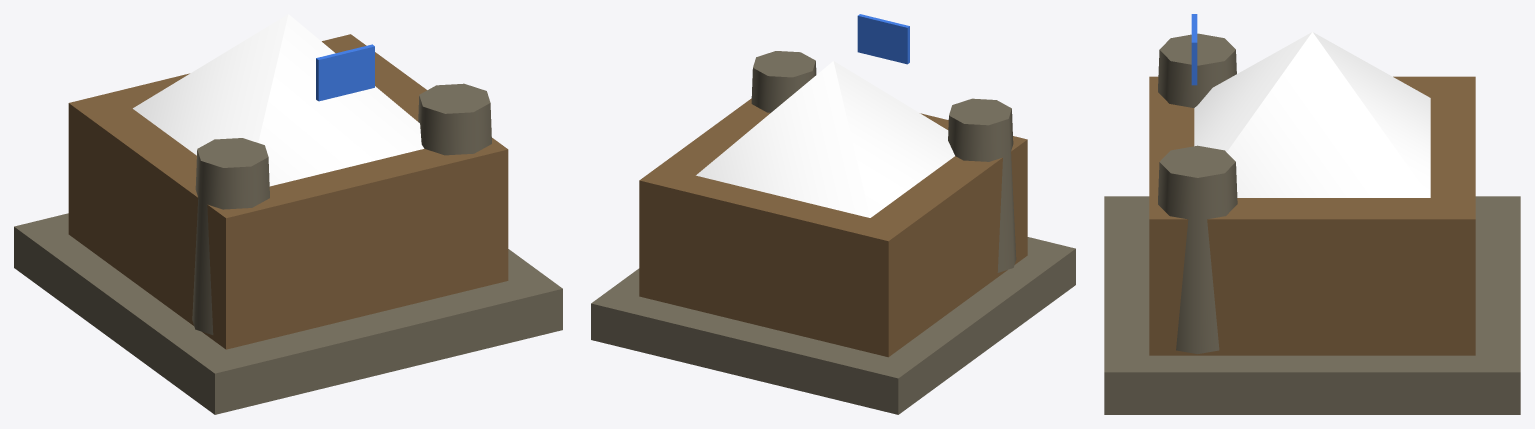
File: keep.glb
3 renders of one model, left to right at view 1: azimuth 30°, elevation 25°; view 2: azimuth 150°, elevation 25°; view 3: azimuth 270°, elevation 25°, orthographic. The views are drawn at different scales.
Parts seen in each view (by area): view 1: keep-main-keep, keep-stone-footprint, keep-heavy-roof, keep-front-tower-left, keep-front-tower-right, keep-team-standard; view 2: keep-main-keep, keep-stone-footprint, keep-heavy-roof, keep-front-tower-left, keep-front-tower-right, keep-team-standard; view 3: keep-main-keep, keep-stone-footprint, keep-heavy-roof, keep-front-tower-right, keep-front-tower-left, keep-team-standard.
Part boxes in pixels (<box>): keep-main-keep: <box>68,34,508,349</box>; keep-stone-footprint: <box>14,213,562,414</box>; keep-heavy-roof: <box>133,14,424,186</box>; keep-front-tower-left: <box>192,138,269,334</box>; keep-front-tower-right: <box>418,83,491,155</box>; keep-team-standard: <box>316,44,374,101</box>; keep-main-keep: <box>639,98,1027,357</box>; keep-stone-footprint: <box>591,237,1075,414</box>; keep-heavy-roof: <box>696,61,954,217</box>; keep-front-tower-left: <box>948,98,1016,272</box>; keep-front-tower-right: <box>751,51,816,112</box>; keep-team-standard: <box>857,14,909,64</box>; keep-main-keep: <box>1149,76,1475,355</box>; keep-stone-footprint: <box>1104,196,1520,414</box>; keep-heavy-roof: <box>1194,32,1430,197</box>; keep-front-tower-right: <box>1158,145,1237,354</box>; keep-front-tower-left: <box>1158,33,1236,107</box>; keep-team-standard: <box>1191,14,1197,85</box>.
Bounding box in the file's own units: 3.7 × 2.93 × 3.7.
